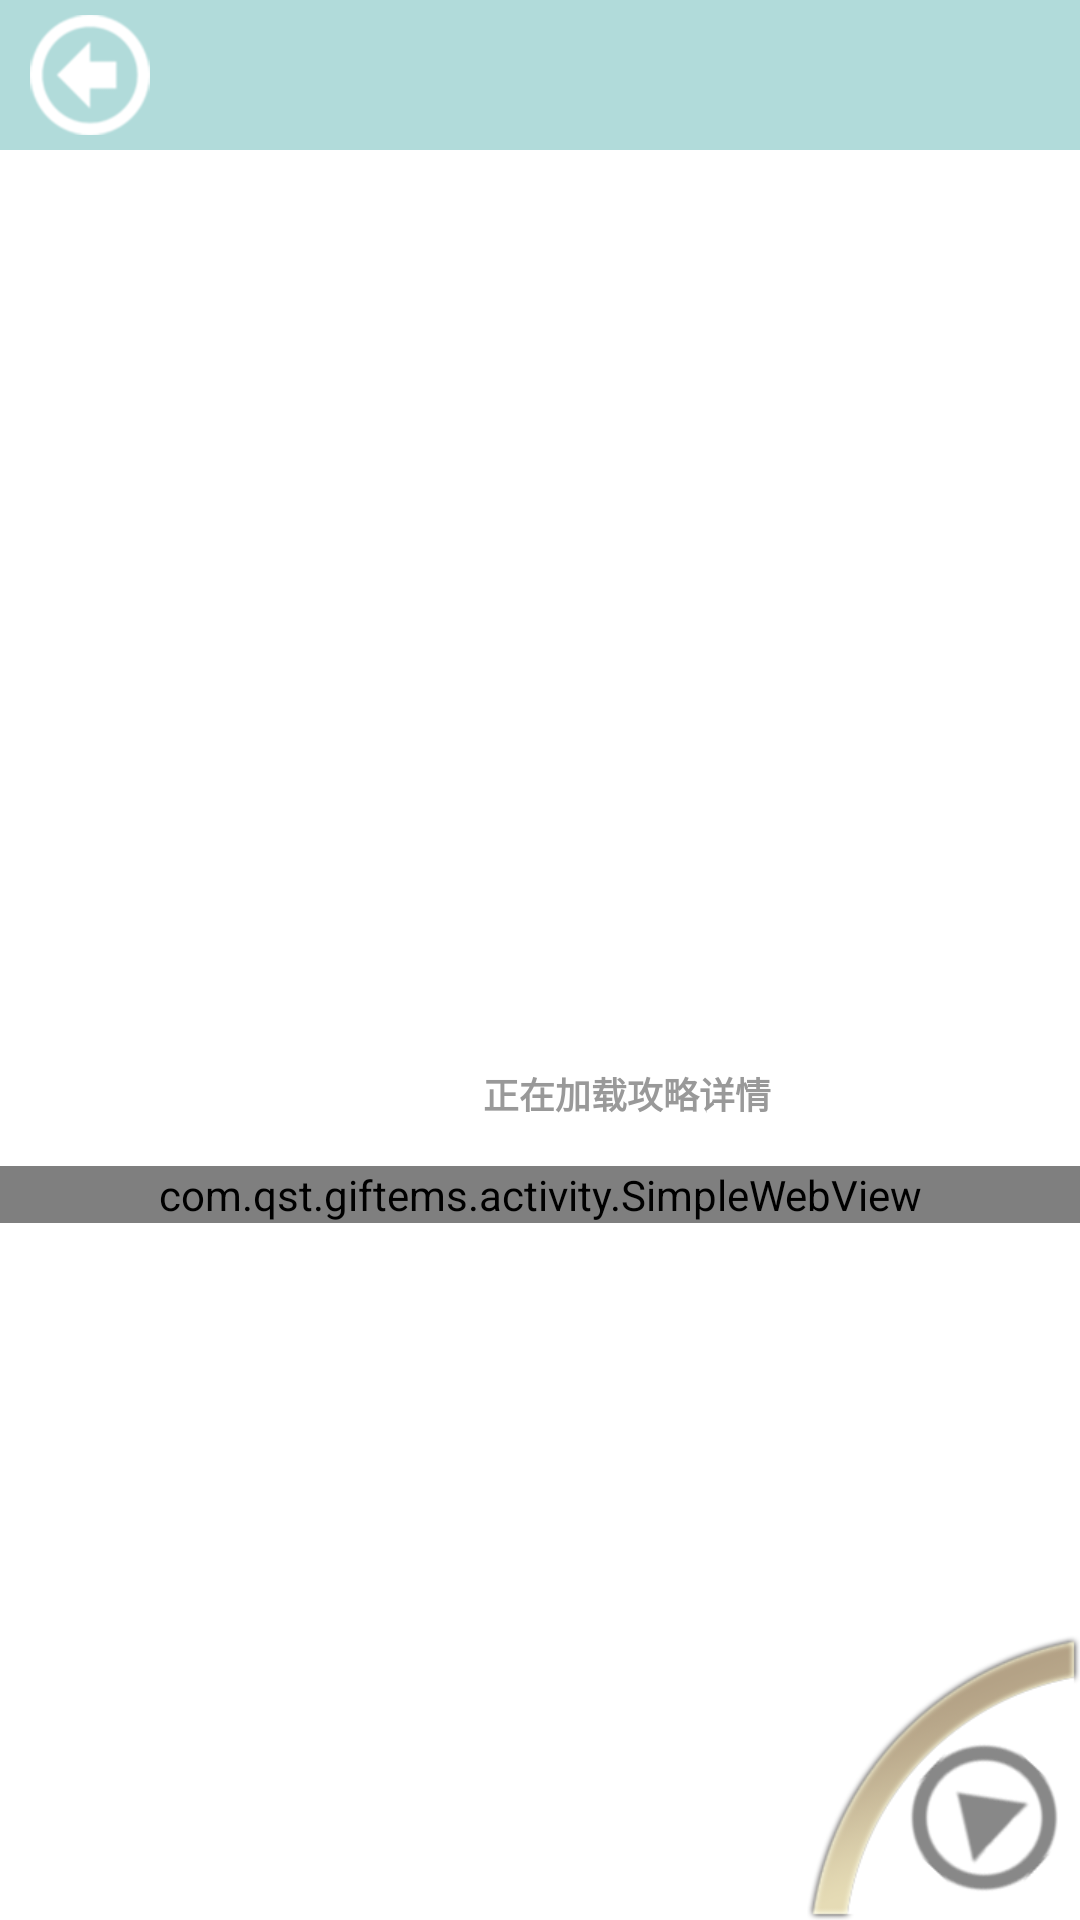

Screen size 1080x1920. Icon name, then its box in pixels as [x1=x1, y1=y1, x2=x2, y2=y2]:
back: [x1=30, y1=15, x2=150, y2=135]
